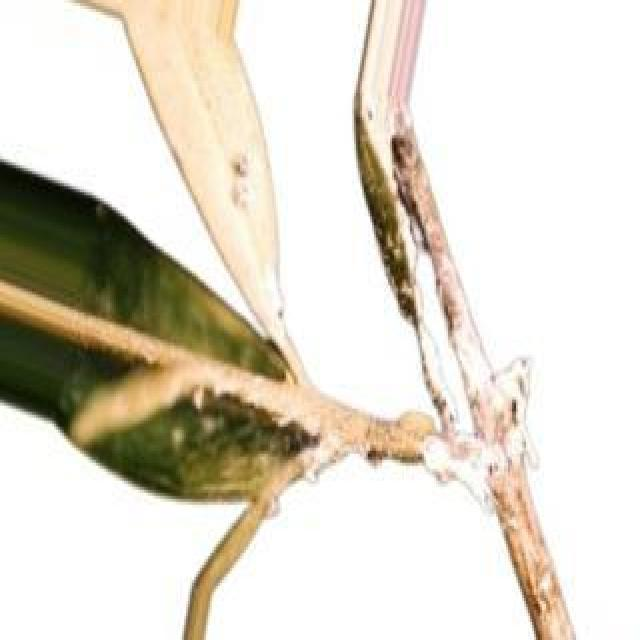Psyllid: (402, 205, 532, 522)
